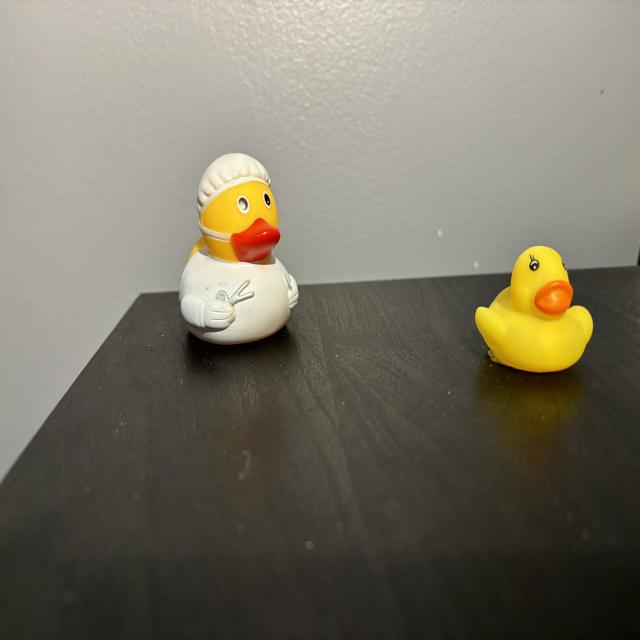duck_regular: (476, 247, 594, 373)
duck_specialty: (180, 154, 300, 345)
